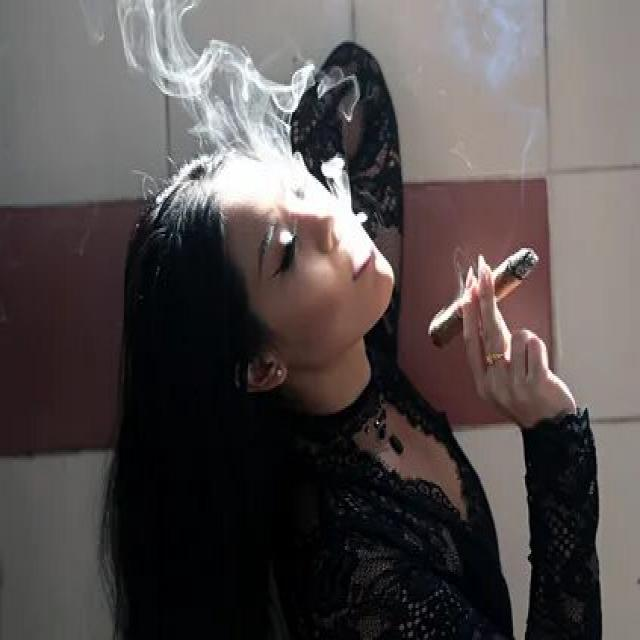smoke: (420, 246, 548, 356)
